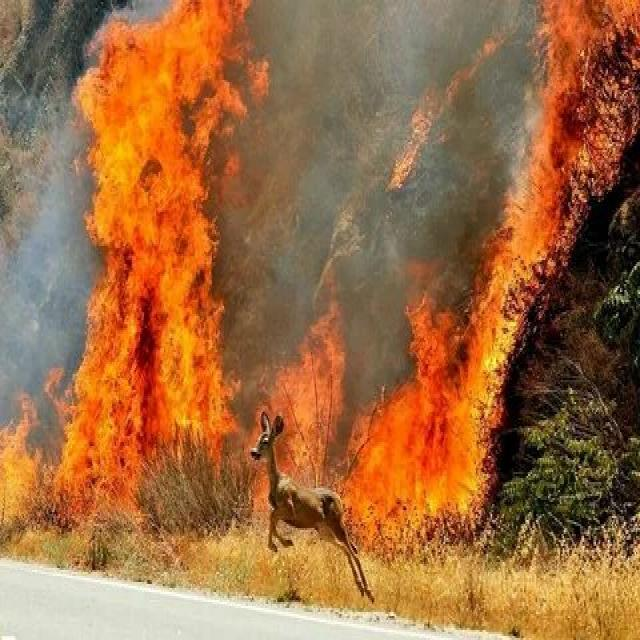Fire: (23, 0, 640, 544)
